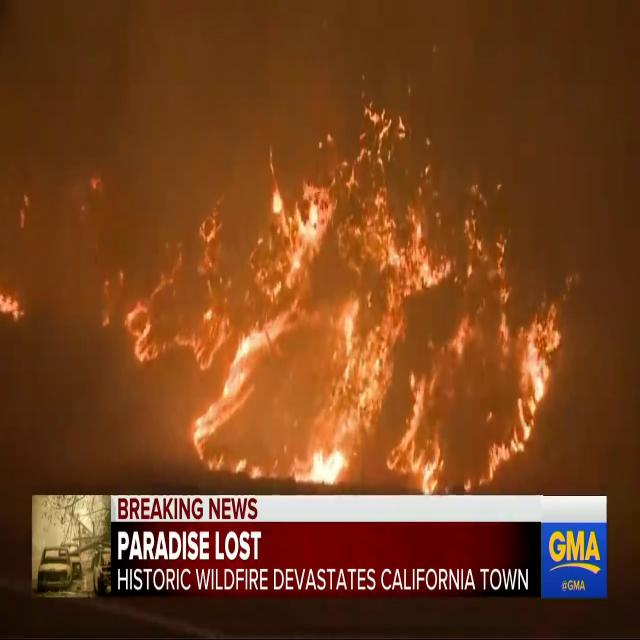fire: (204, 204, 546, 464)
